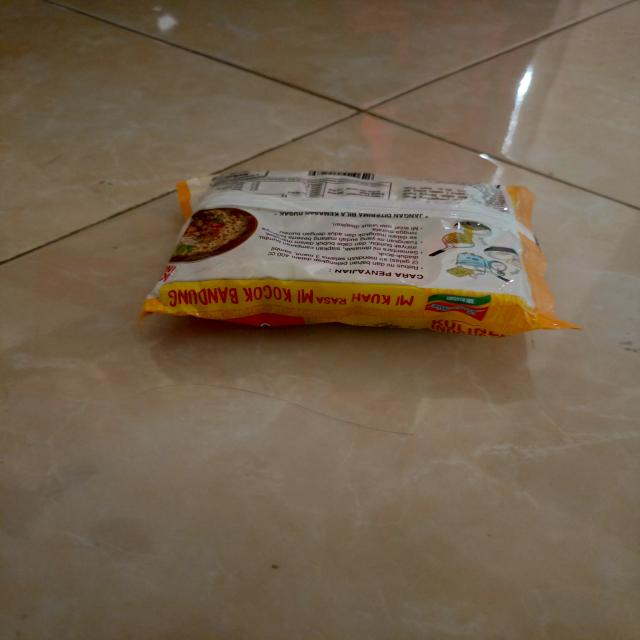indomie-mie-kocok-bandung: (137, 165, 585, 339)
